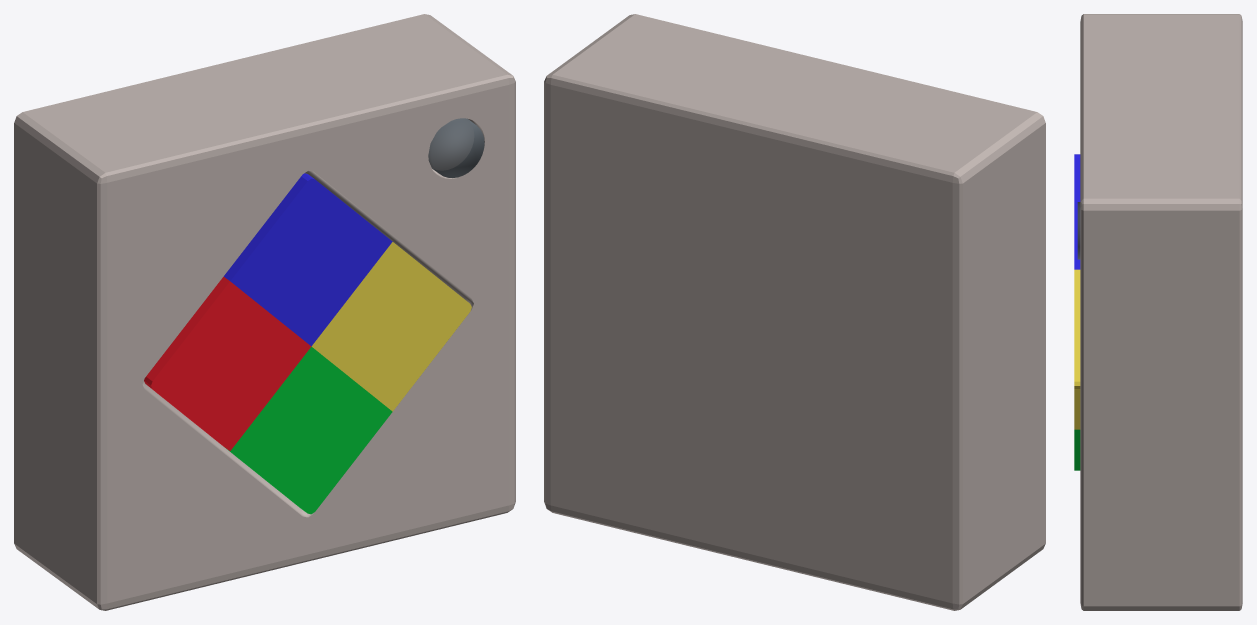
Rendered from simon-says.glb.
The picture shows the model from 3 angles, left to right: view 1: azimuth 30°, elevation 25°; view 2: azimuth 150°, elevation 25°; view 3: azimuth 270°, elevation 25°; orthographic projection. The views are drawn at different scales.
Parts seen in each view (by area): view 1: SimonSaysModule, SimonSaysPattern.L, SimonSaysPattern.U, SimonSaysPattern.D, SimonSaysPattern.R, Light.003; view 2: SimonSaysModule; view 3: SimonSaysModule, SimonSaysPattern.R, SimonSaysPattern.U, SimonSaysPattern.D.
Part boxes in pixels (<box>): SimonSaysModule: <box>14,14,515,610</box>; SimonSaysPattern.L: <box>144,276,311,450</box>; SimonSaysPattern.U: <box>224,173,392,346</box>; SimonSaysPattern.D: <box>226,346,392,514</box>; SimonSaysPattern.R: <box>311,242,471,411</box>; Light.003: <box>428,118,484,177</box>; SimonSaysModule: <box>544,14,1045,610</box>; SimonSaysModule: <box>1080,14,1242,610</box>; SimonSaysPattern.R: <box>1074,269,1080,429</box>; SimonSaysPattern.U: <box>1074,154,1080,269</box>; SimonSaysPattern.D: <box>1074,429,1080,470</box>.
Size of the model in its own units: 0.1761 by 0.1761 by 0.0654.
